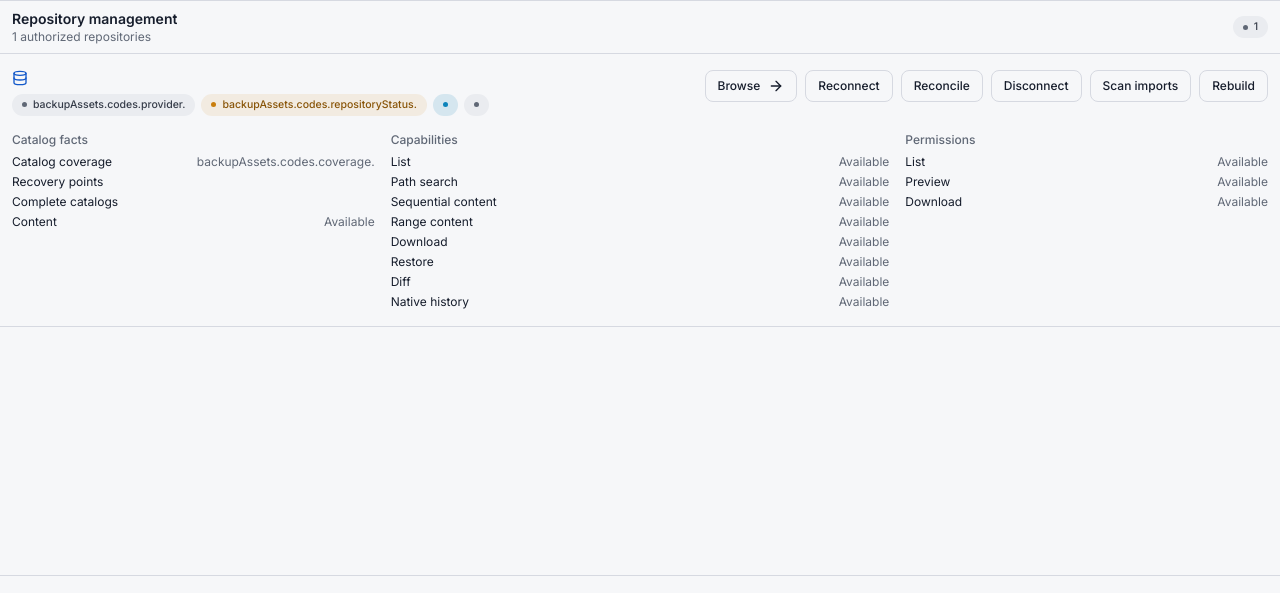
Test: RepositoryManagementPanel › hides Accept for a pending quarantined candidate and shows quarantine status
Click the button "Scan imports".
click(1140, 86)  # box x1=1090 y1=70 x2=1191 y2=102
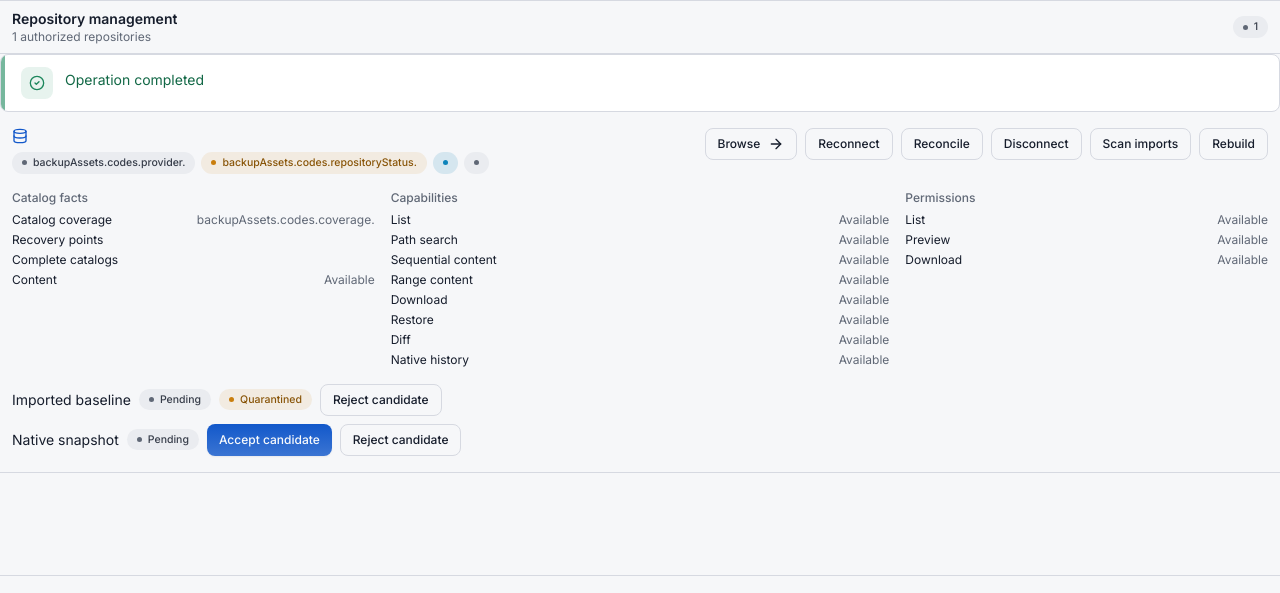
Now the text "Quarantined" is shown, box x1=219 y1=389 x2=312 y2=410
